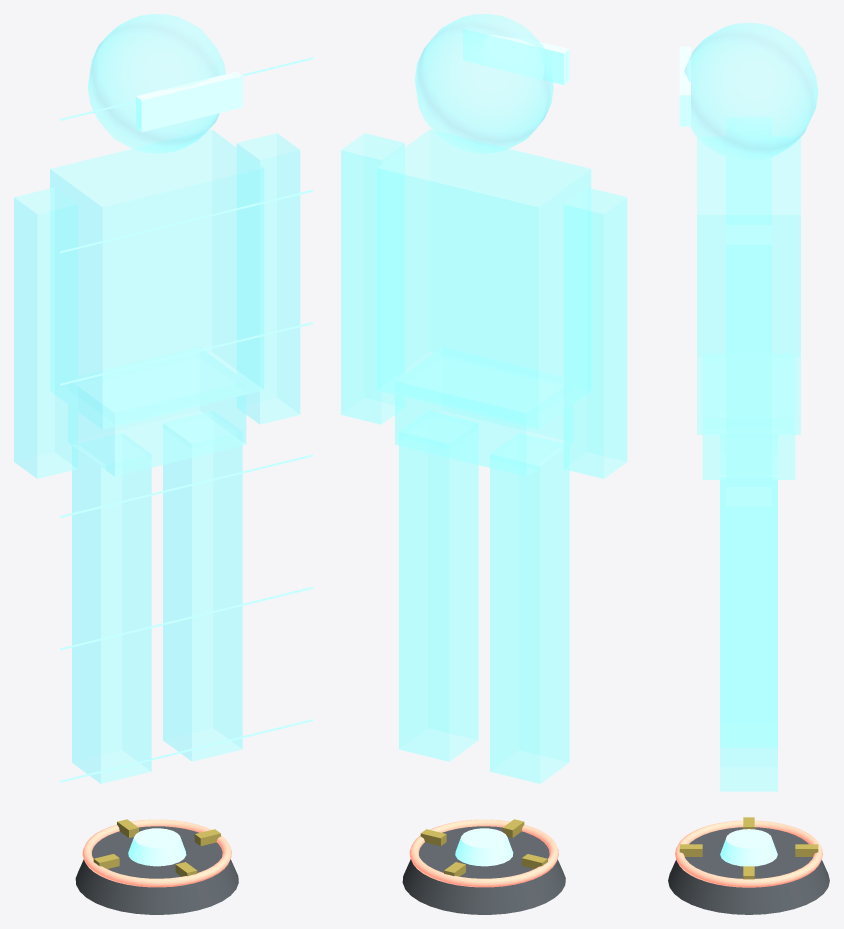
The model's file is self_destruct_decoy.glb.
The picture shows the model from 3 angles, left to right: view 1: azimuth 30°, elevation 25°; view 2: azimuth 150°, elevation 25°; view 3: azimuth 270°, elevation 25°; orthographic projection.
Visible parts, largest first — view 1: self_destruct_decoy; view 2: self_destruct_decoy; view 3: self_destruct_decoy.
Part boxes in pixels (bbox=[...]): self_destruct_decoy: bbox=[14, 14, 312, 914]; self_destruct_decoy: bbox=[341, 14, 627, 914]; self_destruct_decoy: bbox=[668, 22, 829, 914].
Bounding box in the file's own units: 0.52 × 1.62 × 0.28.
